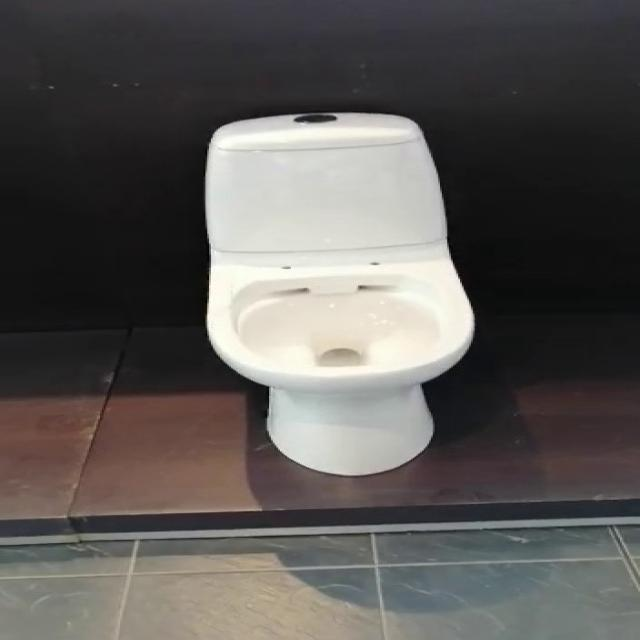toilet: (202, 110, 474, 477)
